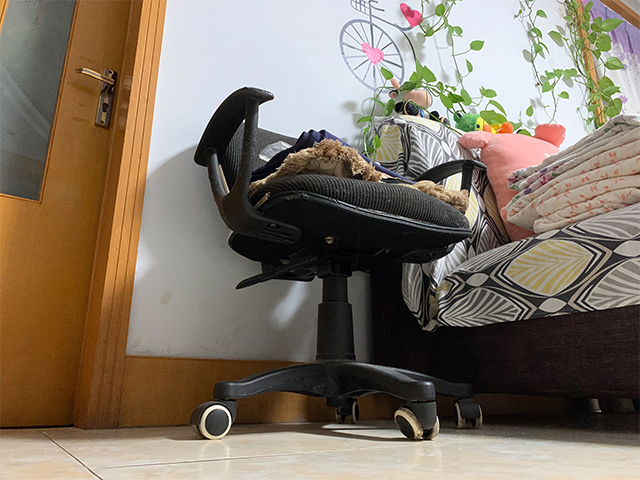sofa: (366, 113, 640, 431)
stool: (187, 82, 489, 442)
